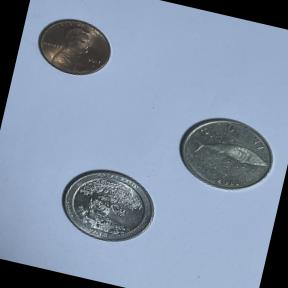coin: (47, 153, 167, 256), (167, 105, 283, 202), (26, 6, 119, 86)
